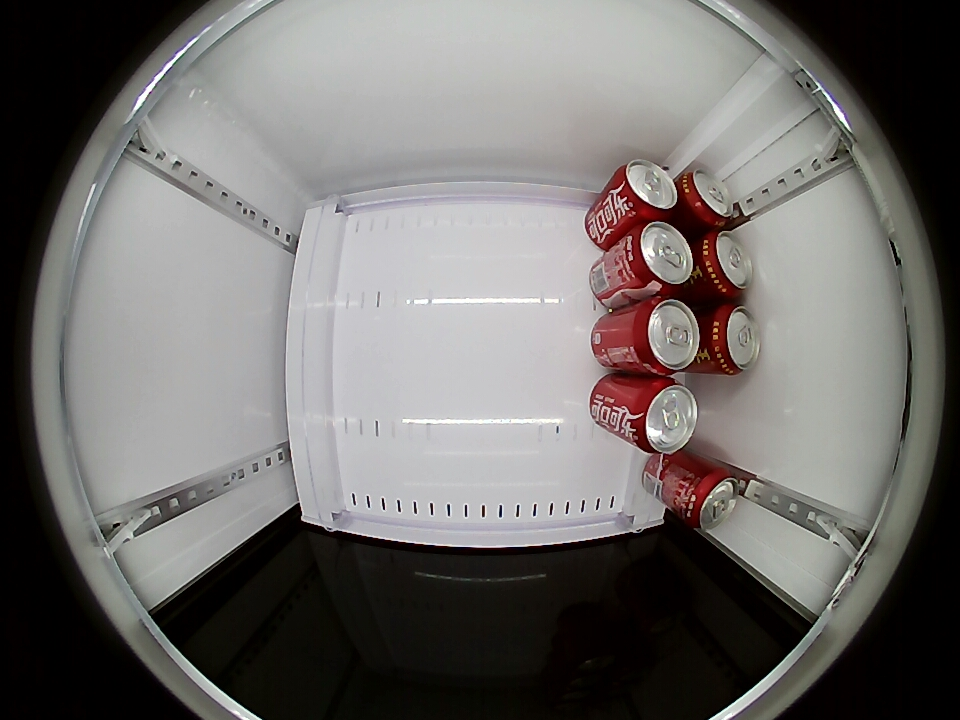kele: (629, 377, 699, 455), (631, 297, 701, 375), (625, 221, 694, 293), (612, 159, 679, 219), (682, 468, 740, 531)
wanglaoji-c: (707, 304, 761, 376), (699, 231, 753, 298), (680, 168, 736, 229)
